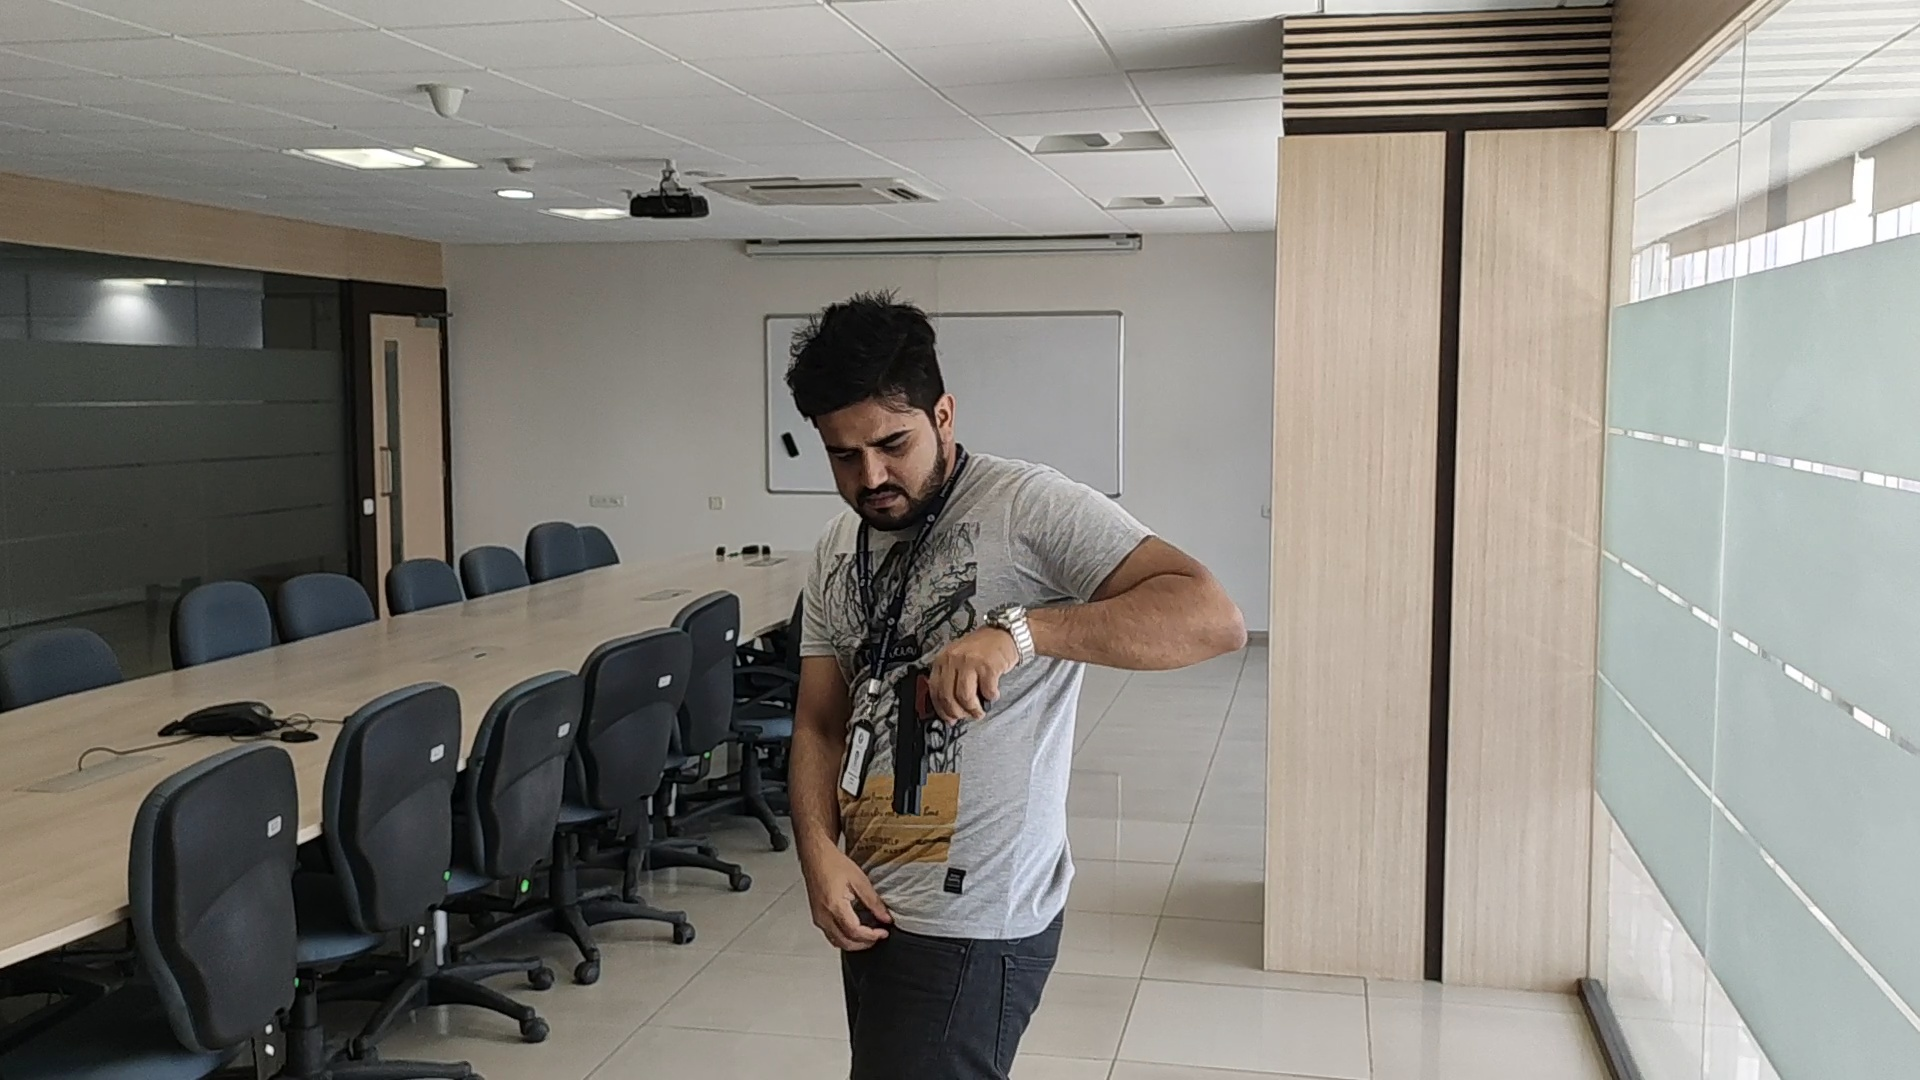gun: (891, 663, 928, 816)
